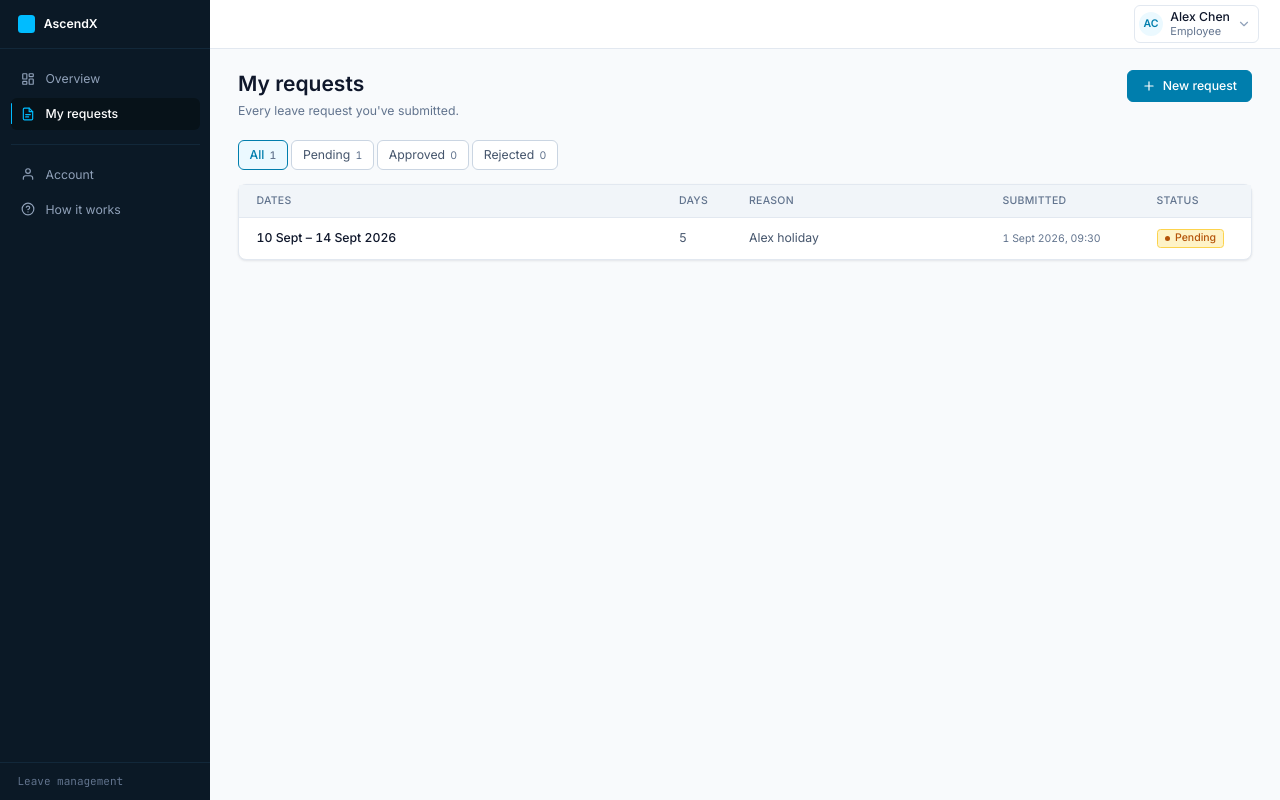
Test case: switching employee in the full app › replaces the visible requests with the newly selected employee's
What coordinates should you click on to do the following:
click the button "AC Alex Chen Employee"
I would click on:
 (1197, 24)
Its box is [1134,5,1259,43].
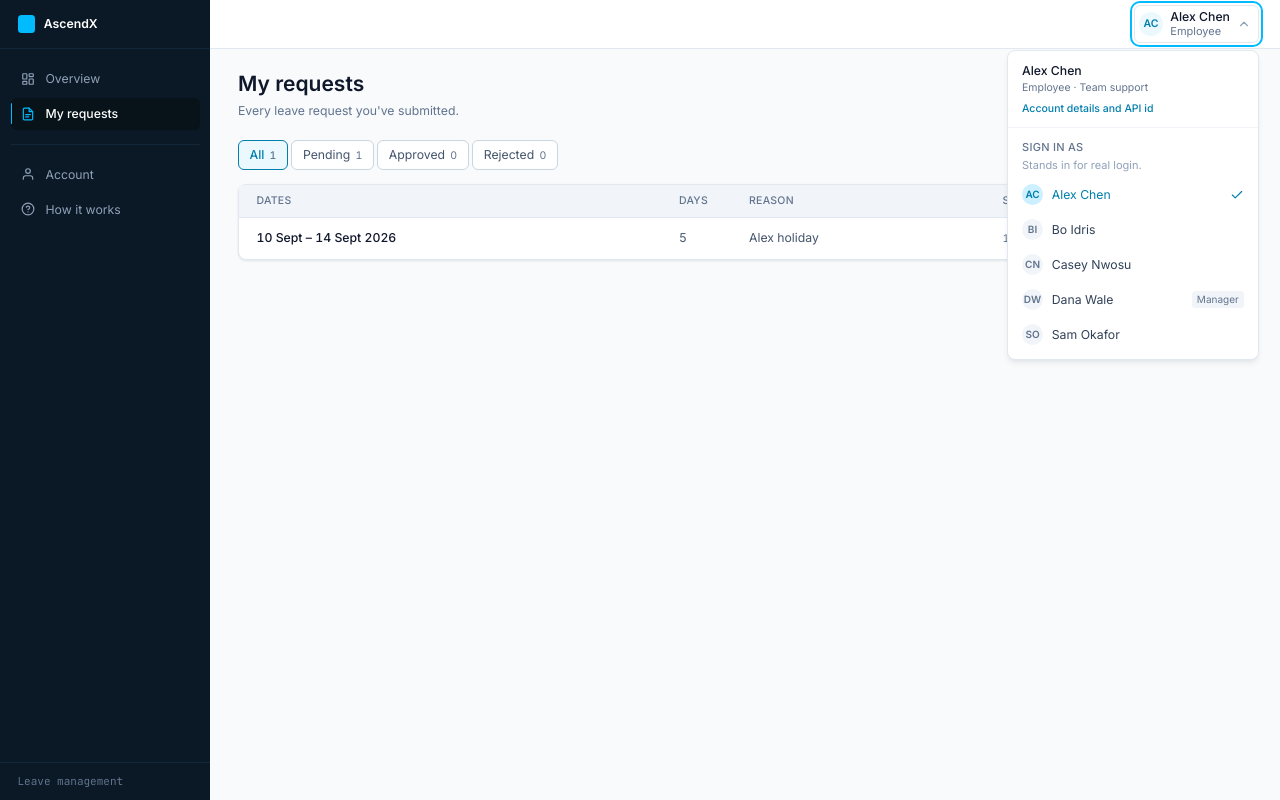
What coordinates should you click on to do the following:
click the menu item "BI Bo Idris"
I would click on:
 (1133, 230)
Its box is [1008,212,1258,247].
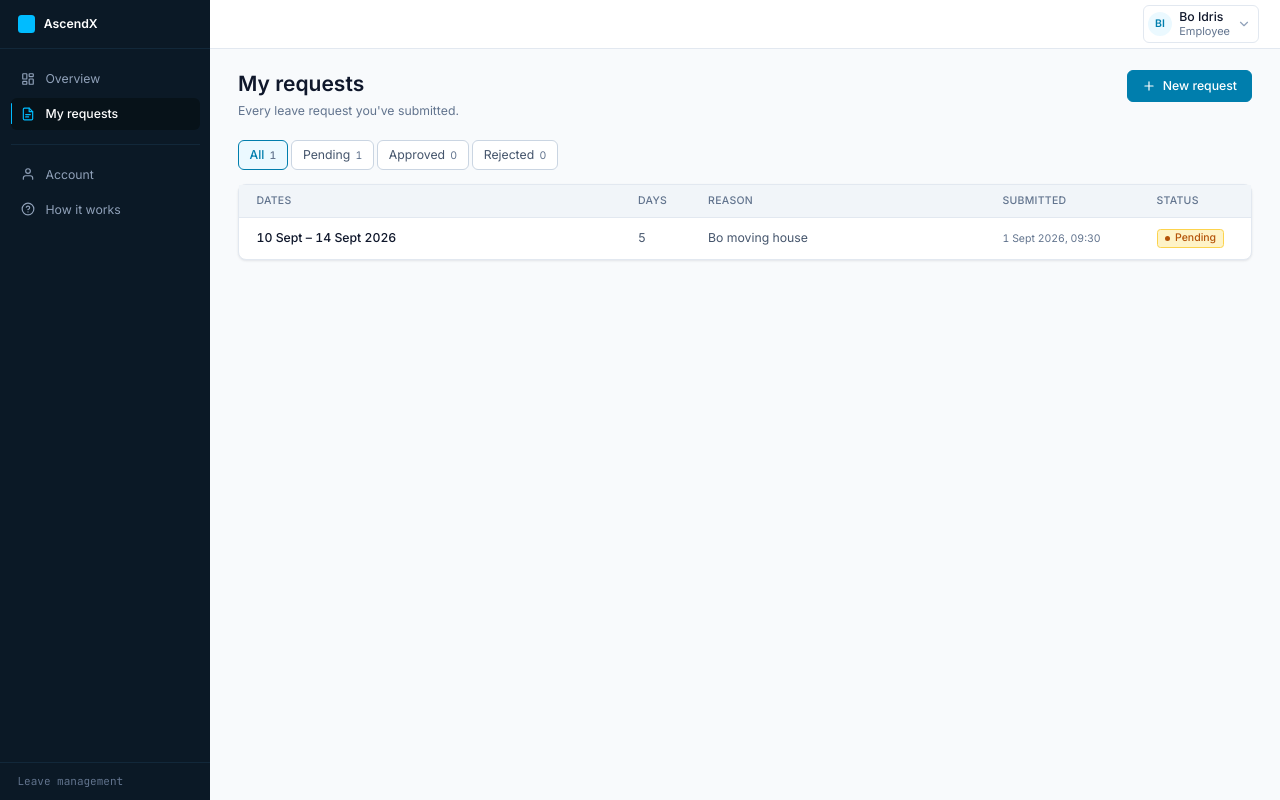
Expected: the text "Alex holiday" is not shown
